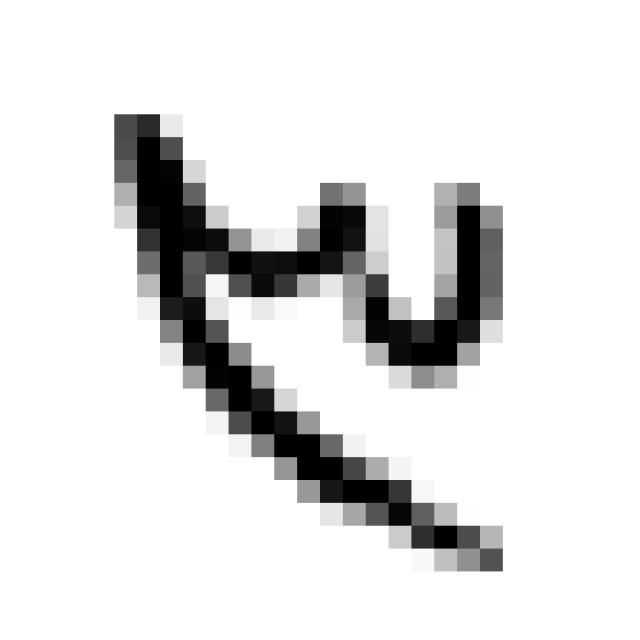3 -three-: (85, 80, 533, 599)
